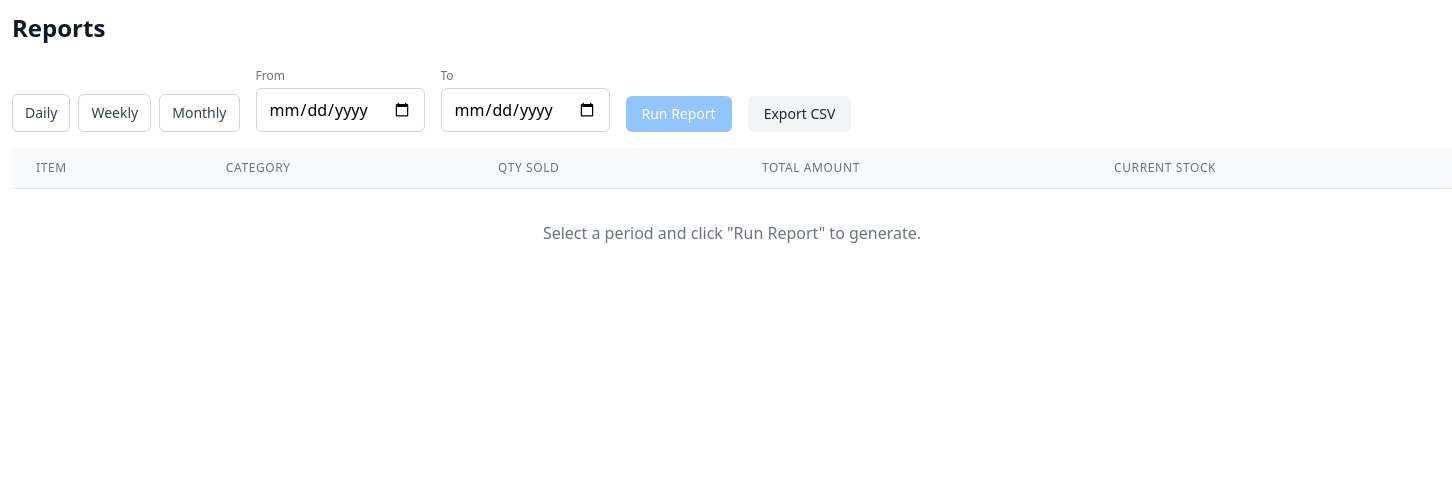
Test case: ReportsPage › shows summary cards after report runs
Click the button with test id "period-daily": coordinates (41, 113) [12,94,70,132]
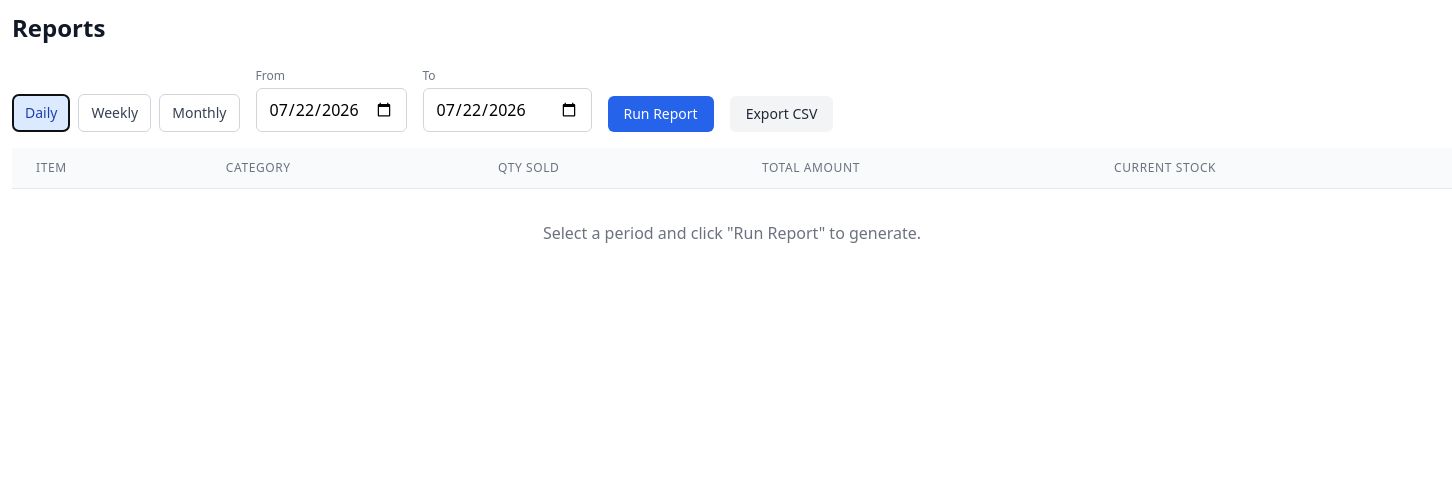
Click the button with test id "run-report-btn": coordinates (661, 114) [608,96,714,132]
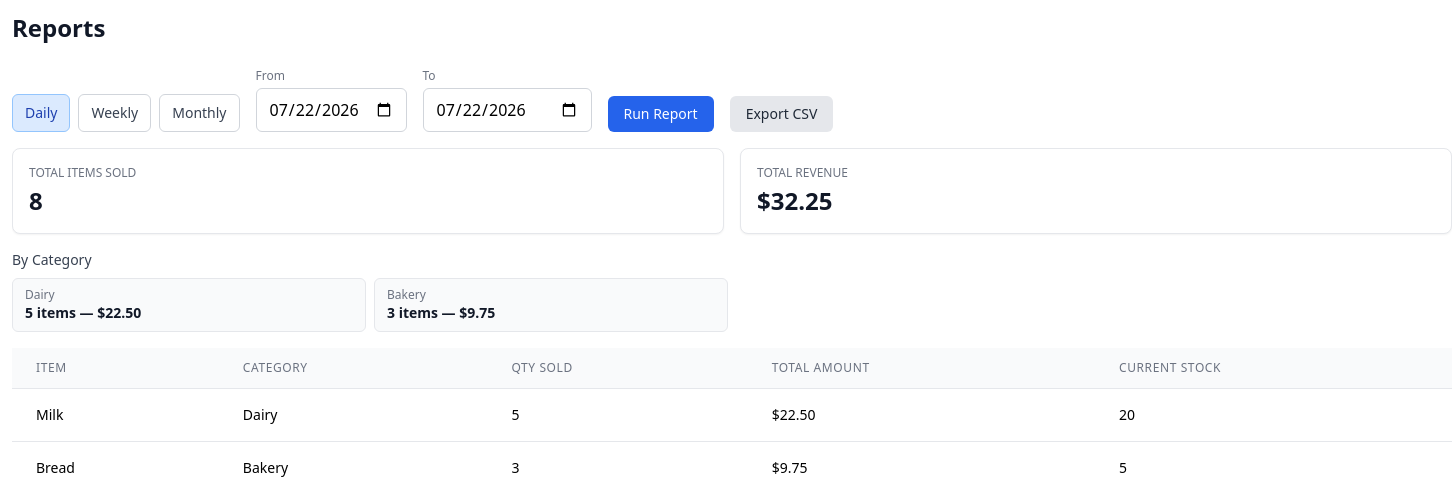
Expected: the text "Total Items Sold" is shown, [29,164,136,181]
Expected: the text "Total Revenue" is shown, [757,164,848,181]
